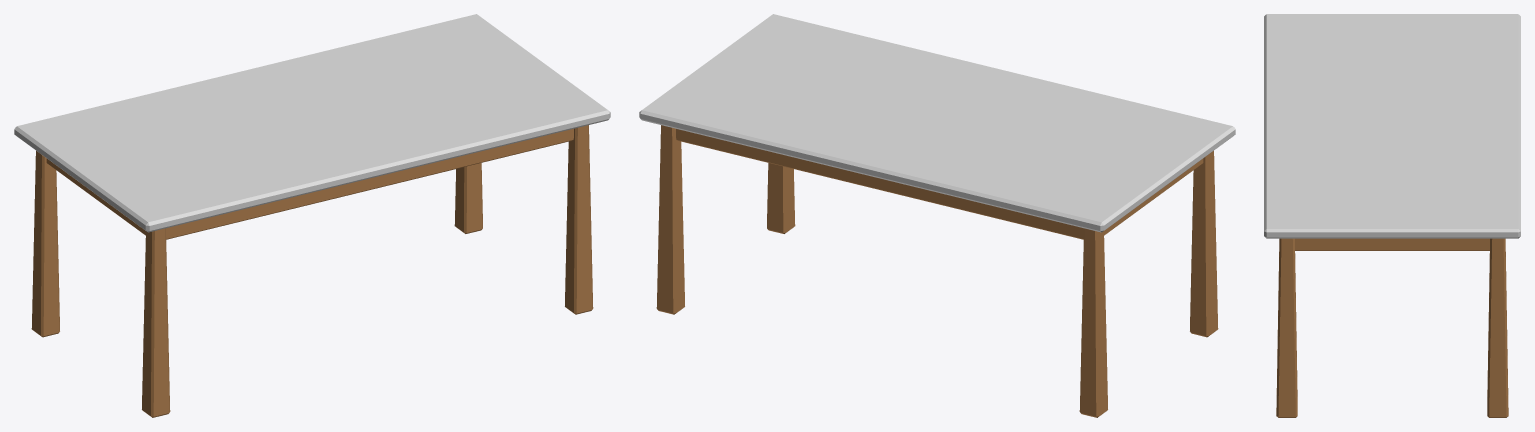
File: table-dining-6.glb
3 views of the same model, side by side, from view 1: azimuth 30°, elevation 25°; view 2: azimuth 150°, elevation 25°; view 3: azimuth 270°, elevation 25° (orthographic). The views are drawn at different scales.
Parts seen in each view (by area): view 1: table-dining-6.tint, table-dining-6.wood; view 2: table-dining-6.tint, table-dining-6.wood; view 3: table-dining-6.tint, table-dining-6.wood.
Boxes of the visible parts, box(x1,y1,x2,y2) form: table-dining-6.tint: box(14, 14, 610, 232); table-dining-6.wood: box(31, 125, 593, 417); table-dining-6.tint: box(639, 14, 1235, 232); table-dining-6.wood: box(656, 125, 1218, 417); table-dining-6.tint: box(1264, 14, 1520, 238); table-dining-6.wood: box(1276, 238, 1508, 417).
Size of the model in its own units: 1.8 by 0.75 by 0.9.
